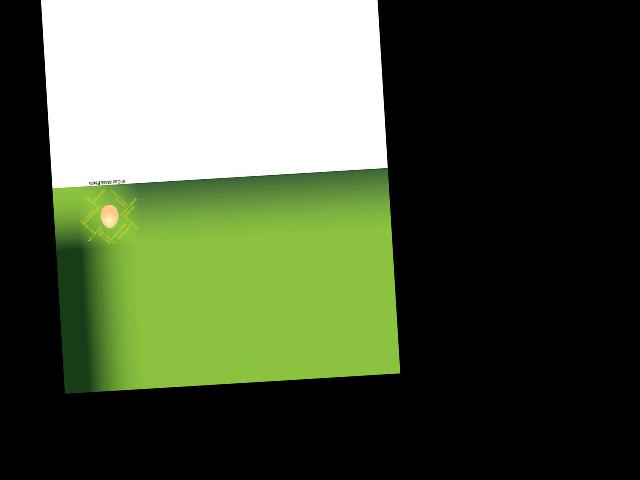egg: (99, 204, 118, 228)
